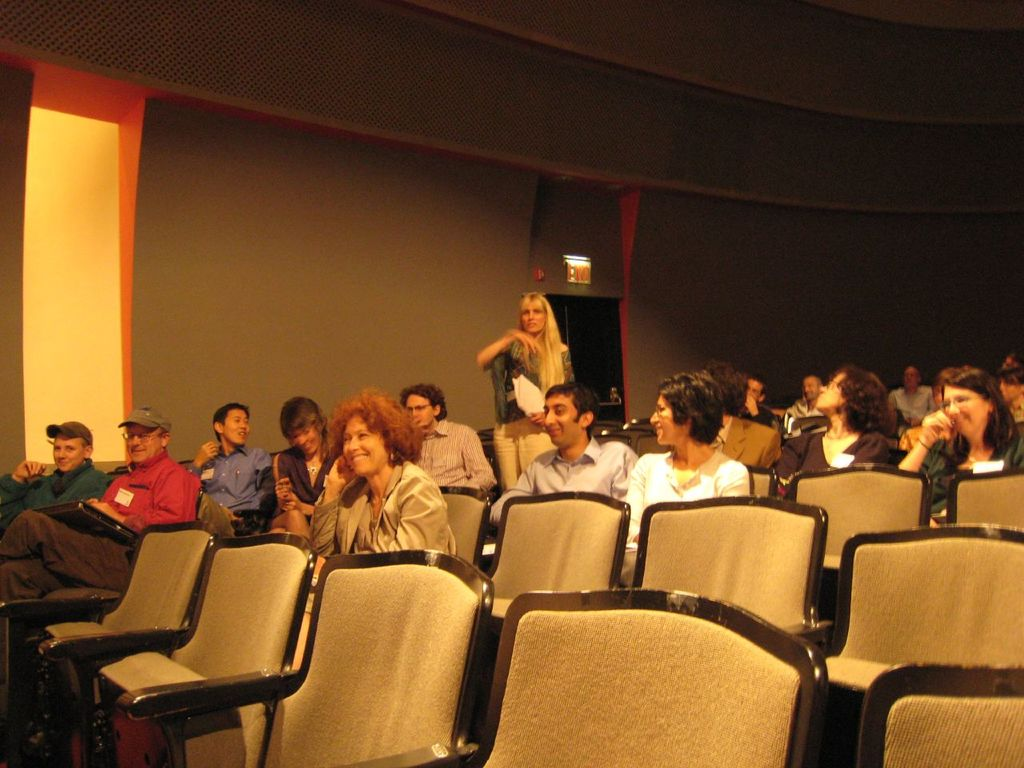Human-face: (344, 416, 386, 477), (943, 385, 986, 433), (543, 396, 582, 445), (650, 396, 682, 449), (127, 421, 159, 461), (52, 433, 82, 472), (816, 374, 846, 413), (226, 408, 252, 444), (406, 394, 435, 424), (520, 300, 546, 332), (295, 429, 326, 453), (1000, 377, 1020, 400), (796, 380, 818, 400), (743, 381, 762, 402), (902, 368, 918, 389), (930, 389, 943, 408), (1004, 358, 1016, 370)
